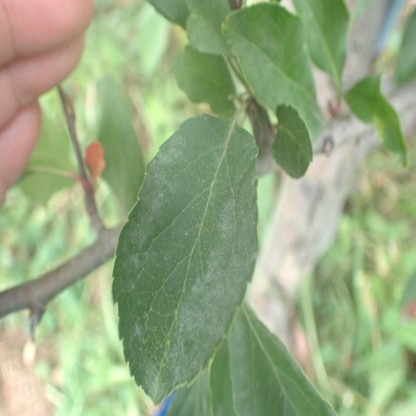powdery_mildew: (122, 113, 258, 405), (267, 332, 317, 397), (228, 307, 255, 416)
